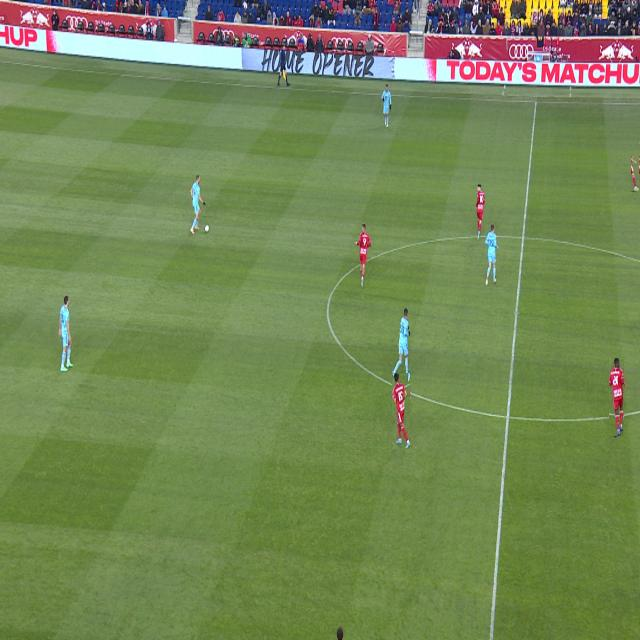football: (204, 224, 209, 233)
player: (392, 309, 411, 383), (393, 374, 410, 449), (354, 223, 371, 287), (610, 359, 624, 436), (59, 296, 73, 371), (190, 175, 205, 234), (485, 224, 499, 286), (476, 184, 485, 240), (381, 84, 392, 128), (631, 155, 640, 191)
